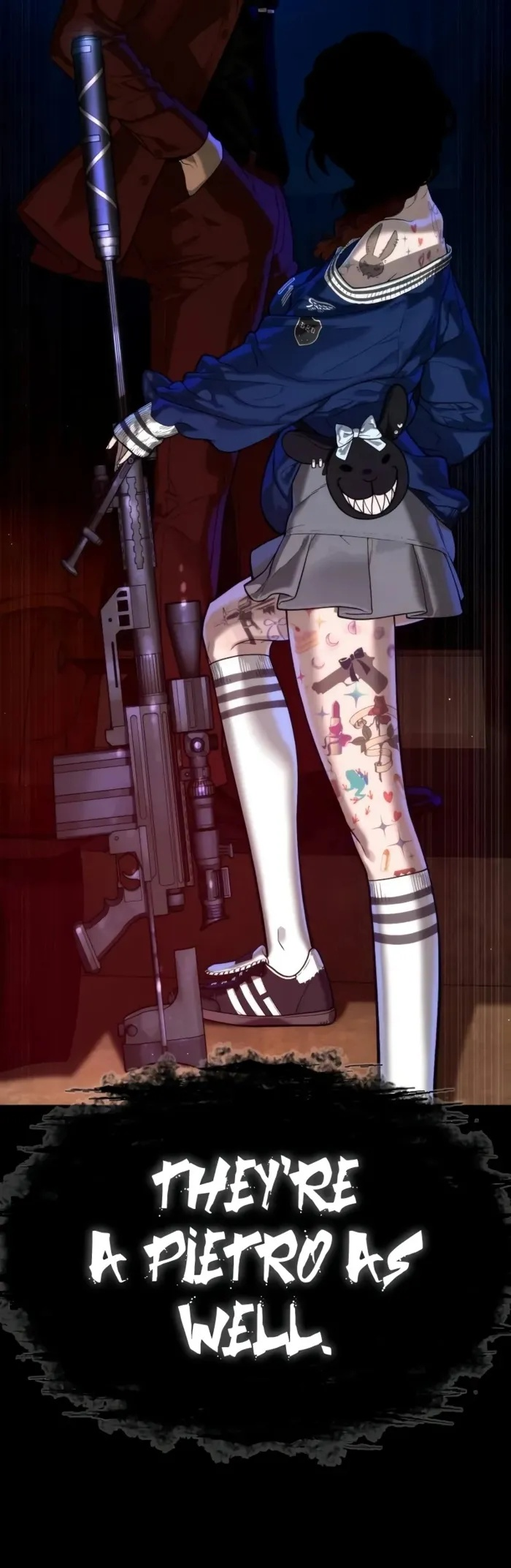bubbles: (1, 1051, 511, 1473)
